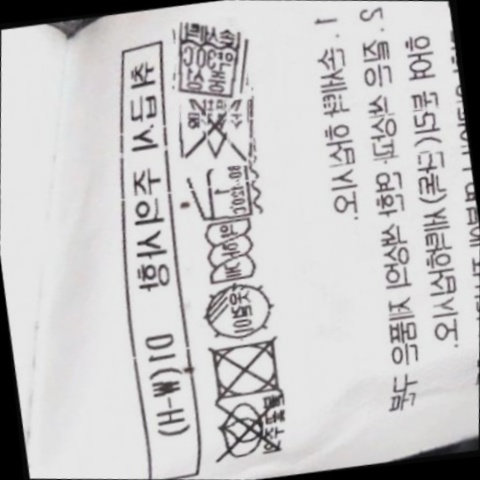DN_tumble_dry: (198, 327, 296, 409)
hand_wash: (164, 16, 257, 103)
iron_low: (184, 156, 264, 229)
line_dry_in_shade: (193, 275, 284, 347)
wring: (197, 213, 266, 291)
